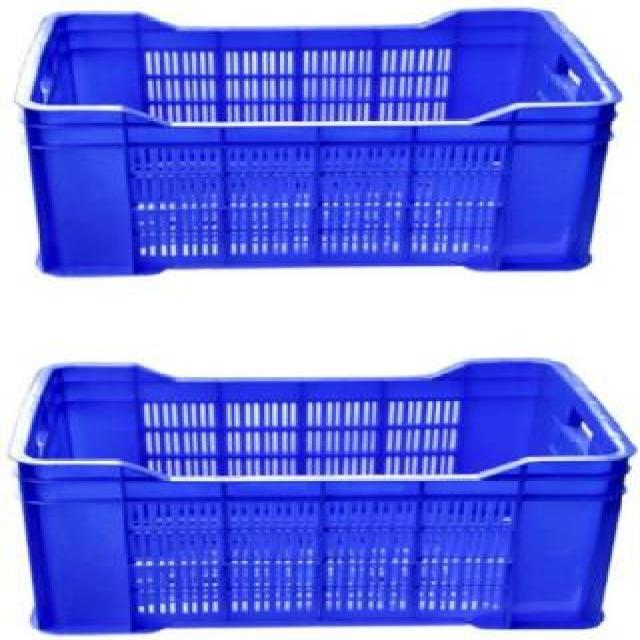basket: (15, 360, 636, 635), (17, 5, 627, 276)
